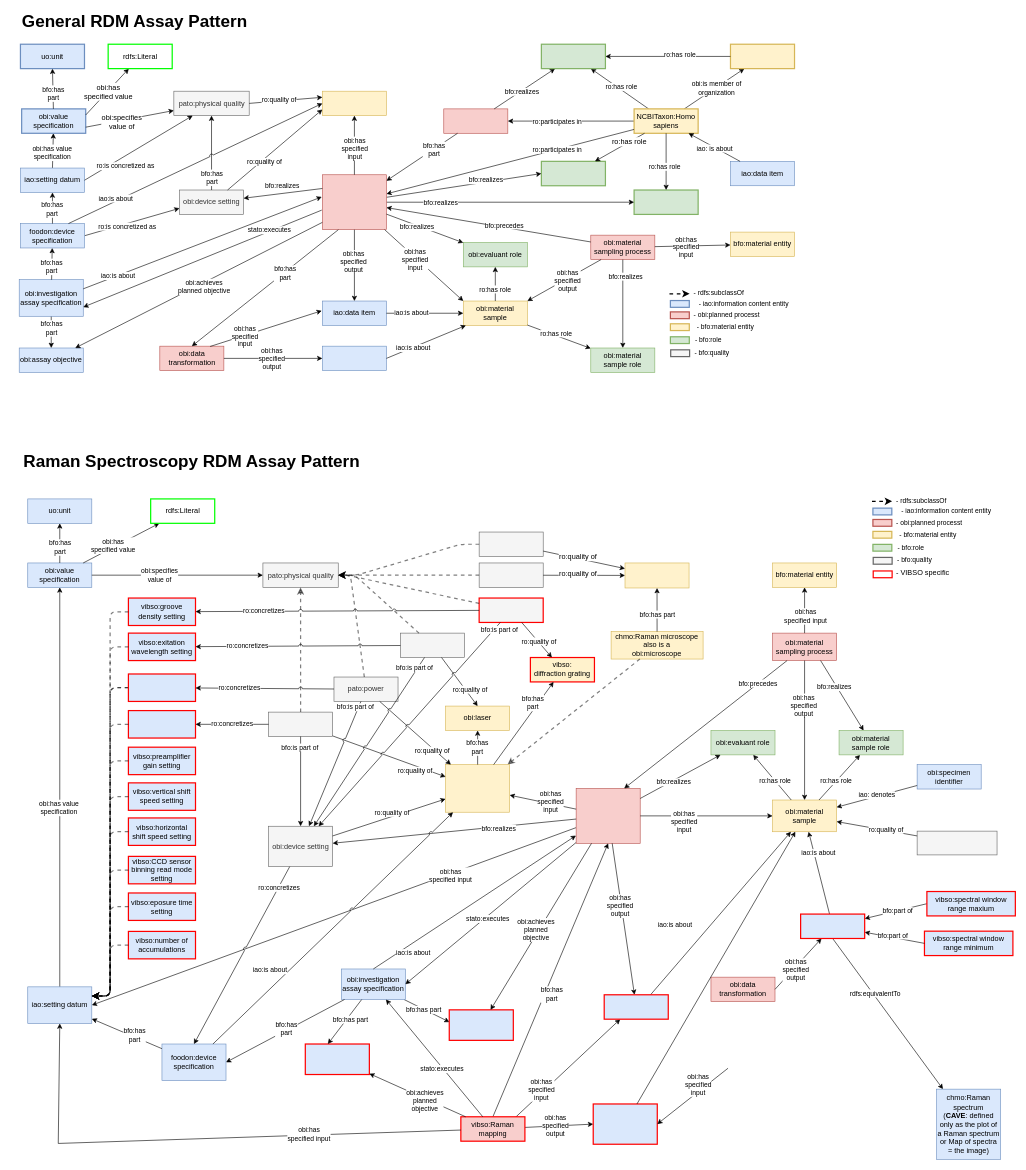
Some shapes in this 1026 by 1170 pixel diagram are drawn without their labels. Here are the shapes that lost their labels. From the top down, the box of each, then its label:
(540, 43, 606, 69): obi:investigation agent role
(730, 43, 795, 69): obi:organization
(322, 91, 386, 116): obi:device
(443, 108, 508, 133): obi:investigation
(540, 160, 606, 186): efo:experiment performer
(322, 174, 386, 230): obi:assay
(633, 189, 698, 215): efo:technician
(322, 346, 386, 371): iao:information content entity
(479, 531, 543, 556): pato:longitudinal orientation
(479, 562, 543, 587): pato:lateral orientation
(624, 562, 689, 588): obi:microscope slide
(478, 597, 544, 623): vibso: groove density
(400, 633, 465, 658): pato:wavelength
(127, 673, 196, 702): vibso:incident light power datum
(127, 710, 196, 738): vibso:device temperature setting
(268, 712, 333, 737): pato:temperature
(445, 764, 510, 812): chmo:Raman spectrometer
(576, 788, 640, 843): chmo:'Raman spectroscopy'
(917, 831, 997, 855): pato:concentration of
(800, 913, 865, 939): vibso:Raman spectral image
(448, 1009, 514, 1041): vibso:Raman spectroscopy objective
(603, 994, 669, 1019): vibso:Raman spectrum
(304, 1043, 370, 1075): vibso:Raman mapping specification
(592, 1103, 658, 1145): vibso:Raman map (syn: spectra matrix)
